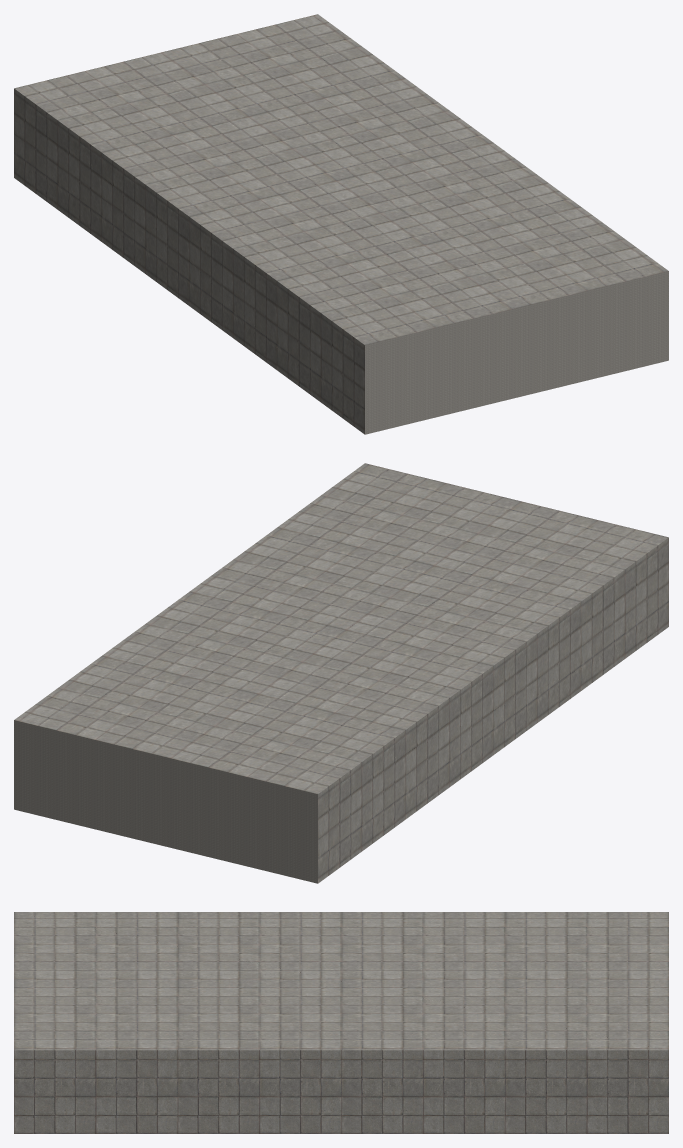
File: pavement6.fbx
3 renders of one model, top to bottom at view 1: azimuth 30°, elevation 25°; view 2: azimuth 150°, elevation 25°; view 3: azimuth 270°, elevation 25°, orthographic. The views are drawn at different scales.
Parts seen in each view (by area): view 1: materialA100; view 2: materialA100; view 3: materialA100.
Boxes of the visible parts, x1,y1,x2,y2 form: materialA100: (14, 14, 668, 434); materialA100: (14, 463, 668, 883); materialA100: (14, 912, 668, 1133).
Bounding box in the file's own units: 6.4 × 1.8 × 12.8.
